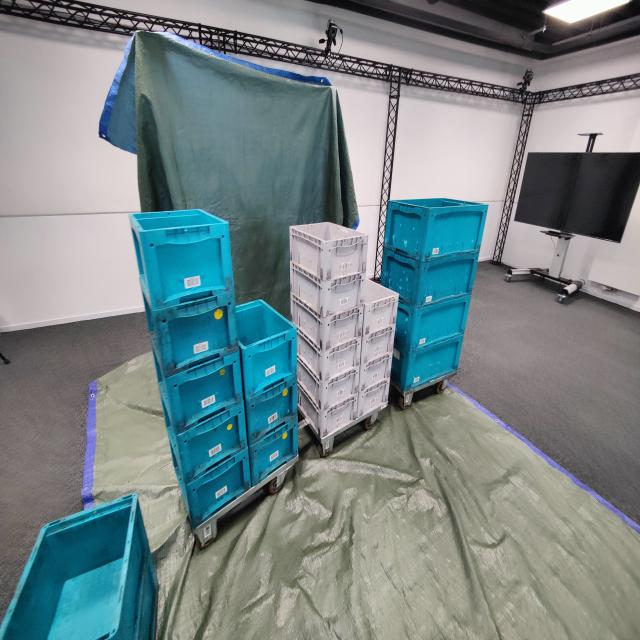Box8G: (288, 221, 372, 285), (288, 293, 364, 355), (288, 264, 366, 320), (298, 382, 362, 441), (297, 329, 362, 386), (297, 356, 361, 412), (364, 278, 401, 338), (361, 323, 396, 368), (358, 380, 393, 420), (358, 354, 391, 394)
BoxB4: (380, 198, 496, 261), (379, 251, 492, 313), (390, 295, 474, 351), (389, 340, 466, 396)
BoxB8: (0, 497, 149, 638), (124, 210, 237, 311), (140, 300, 238, 382), (157, 400, 250, 482), (231, 300, 301, 401), (167, 452, 253, 531), (150, 358, 244, 417), (240, 378, 308, 448), (246, 422, 306, 490), (140, 546, 162, 640)
